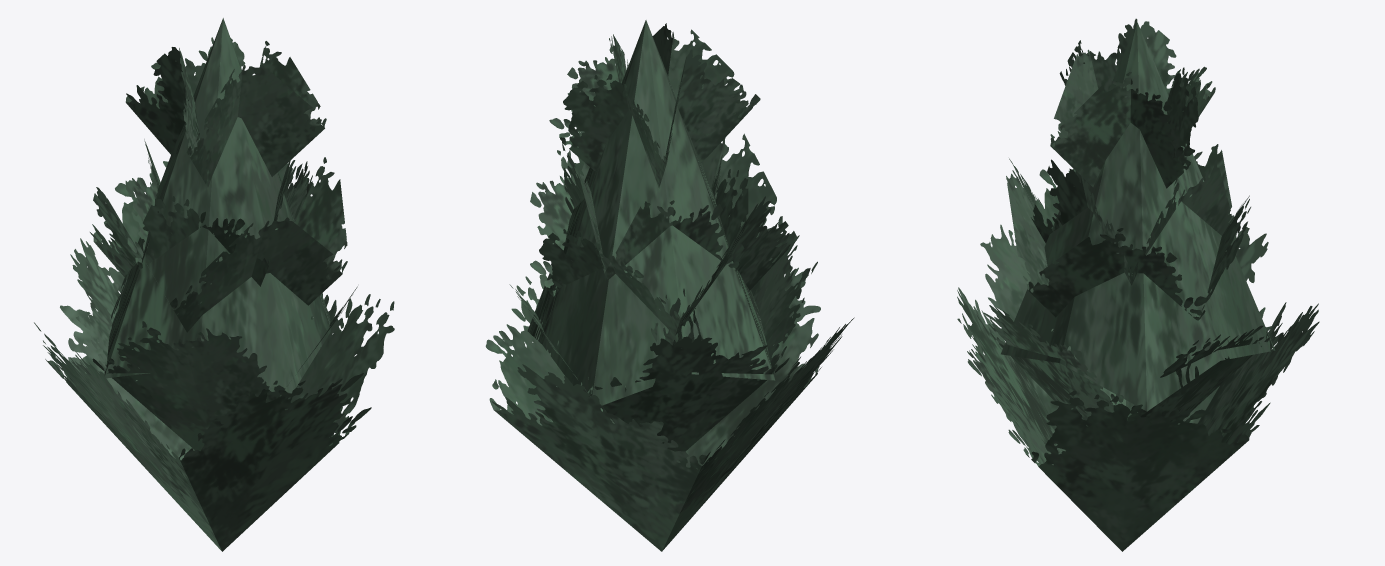
Rendered from ArvorePequenaAraucaria.fbx.
3 renders of one model, left to right at view 1: azimuth 30°, elevation 25°; view 2: azimuth 150°, elevation 25°; view 3: azimuth 270°, elevation 25°, orthographic.
Visible parts, largest first — view 1: ArvorePequenaAtaucarea; view 2: ArvorePequenaAtaucarea; view 3: ArvorePequenaAtaucarea.
Part boxes in pixels (x1,y1,x2,y2): ArvorePequenaAtaucarea: (34,18,394,551); ArvorePequenaAtaucarea: (485,20,854,551); ArvorePequenaAtaucarea: (957,18,1319,551).
Size of the model in its own units: 144 by 178 by 144.
